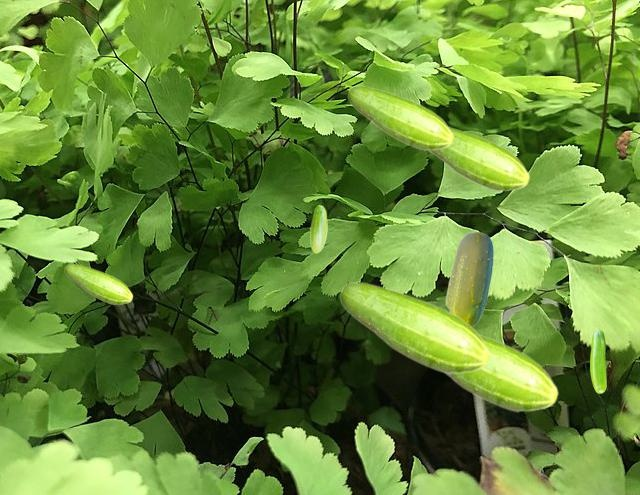cucumber: (339, 281, 490, 374), (444, 334, 558, 412), (347, 85, 453, 150), (429, 126, 529, 191), (445, 231, 492, 326), (64, 263, 132, 304), (590, 330, 605, 392), (310, 205, 326, 252)
